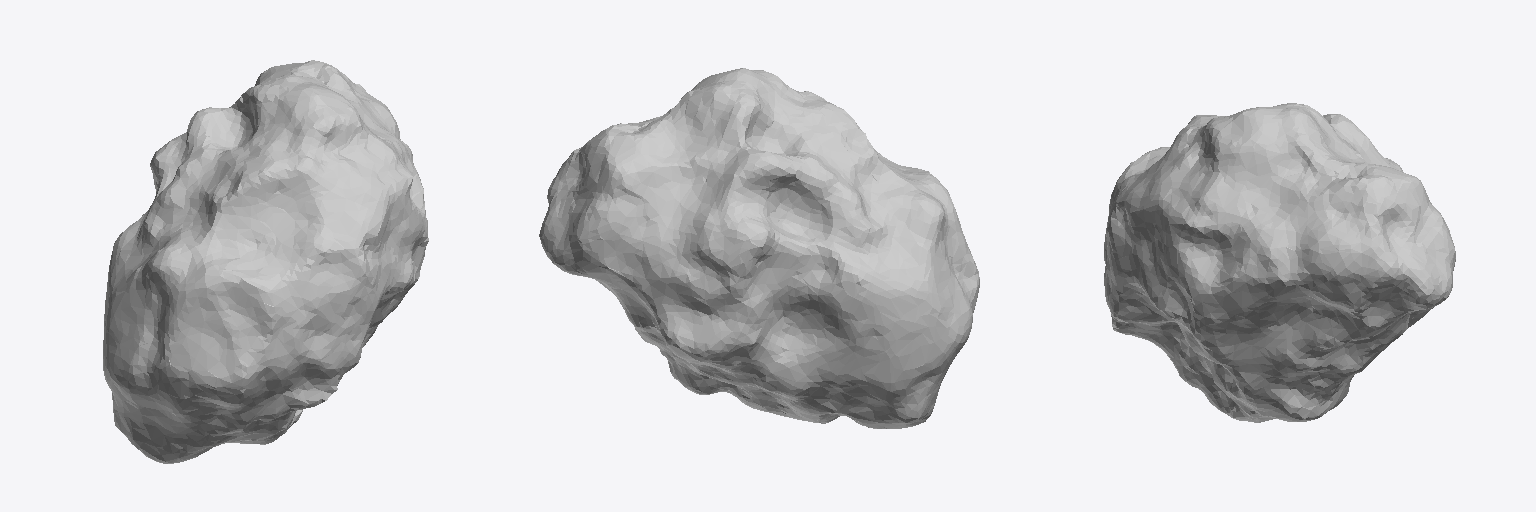
The model's file is Asteroid_4_ULOW_MODEL_.obj.
3 renders of one model, left to right at view 1: azimuth 30°, elevation 25°; view 2: azimuth 150°, elevation 25°; view 3: azimuth 270°, elevation 25°, orthographic.
Parts seen in each view (by area): view 1: ASTEROID_LOW_POLY_4__asteroid_04; view 2: ASTEROID_LOW_POLY_4__asteroid_04; view 3: ASTEROID_LOW_POLY_4__asteroid_04.
Boxes of the visible parts, <box> form: ASTEROID_LOW_POLY_4__asteroid_04: <box>103,60,428,463</box>; ASTEROID_LOW_POLY_4__asteroid_04: <box>539,68,979,428</box>; ASTEROID_LOW_POLY_4__asteroid_04: <box>1104,103,1455,422</box>.
Size of the model in its own units: 1.56 by 1.47 by 1.41.